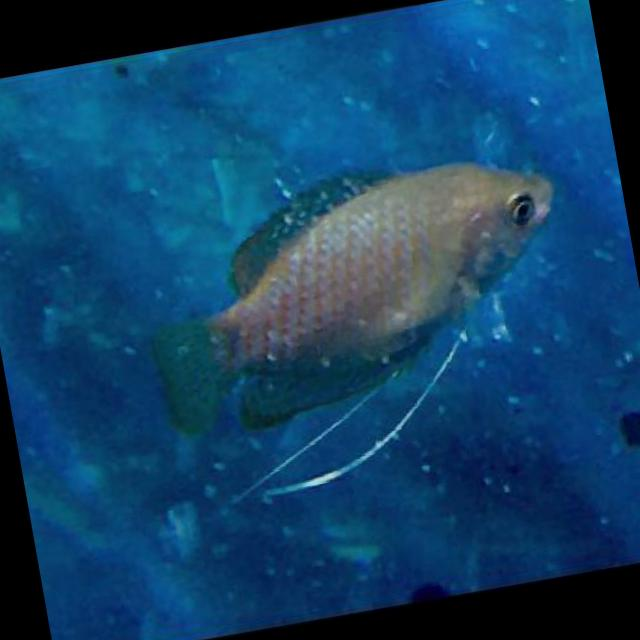Gourami: (112, 128, 590, 442)
